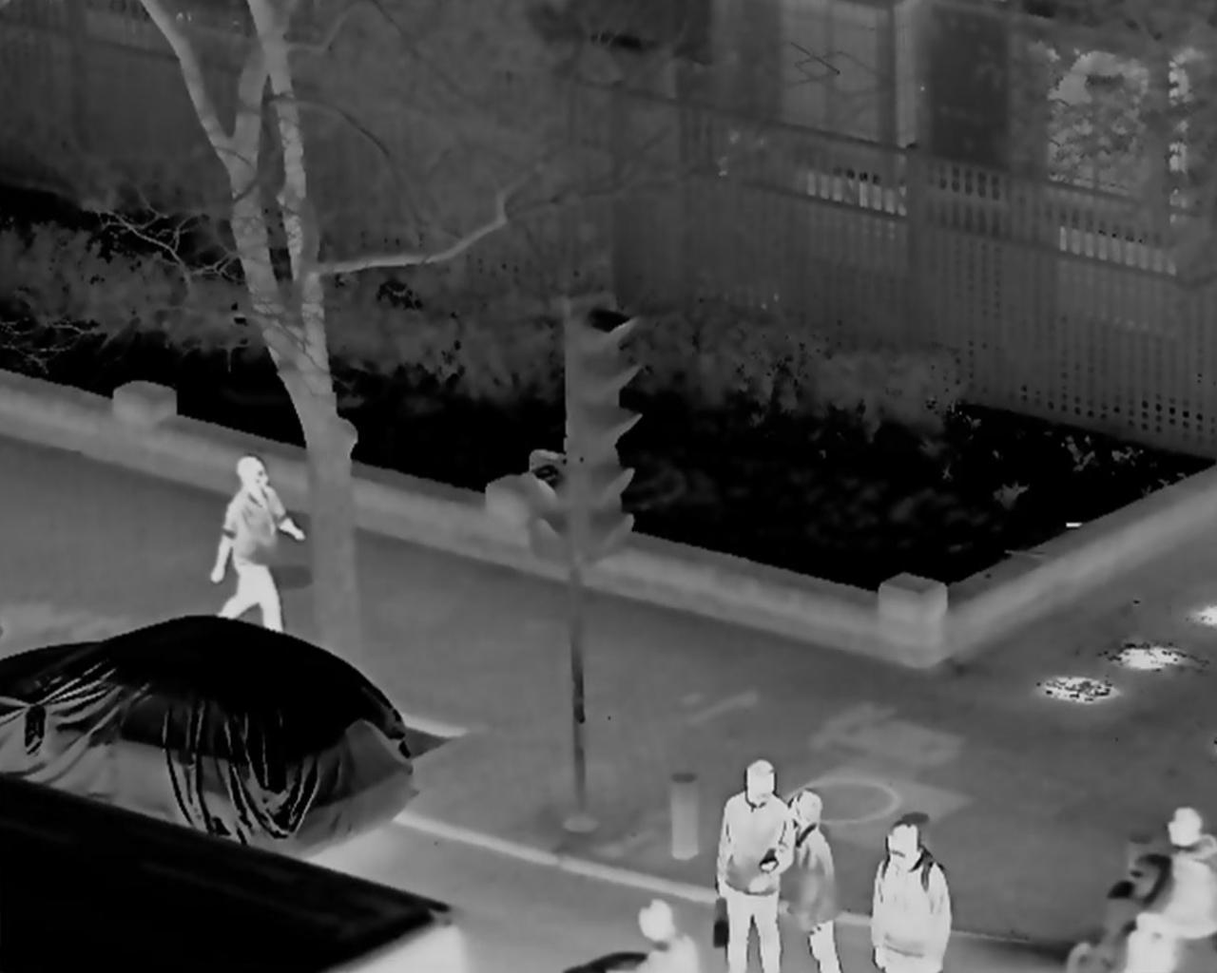person: (708, 756, 789, 970), (206, 459, 295, 650), (764, 792, 845, 973), (1128, 803, 1214, 973), (860, 821, 951, 973), (603, 891, 700, 973)
